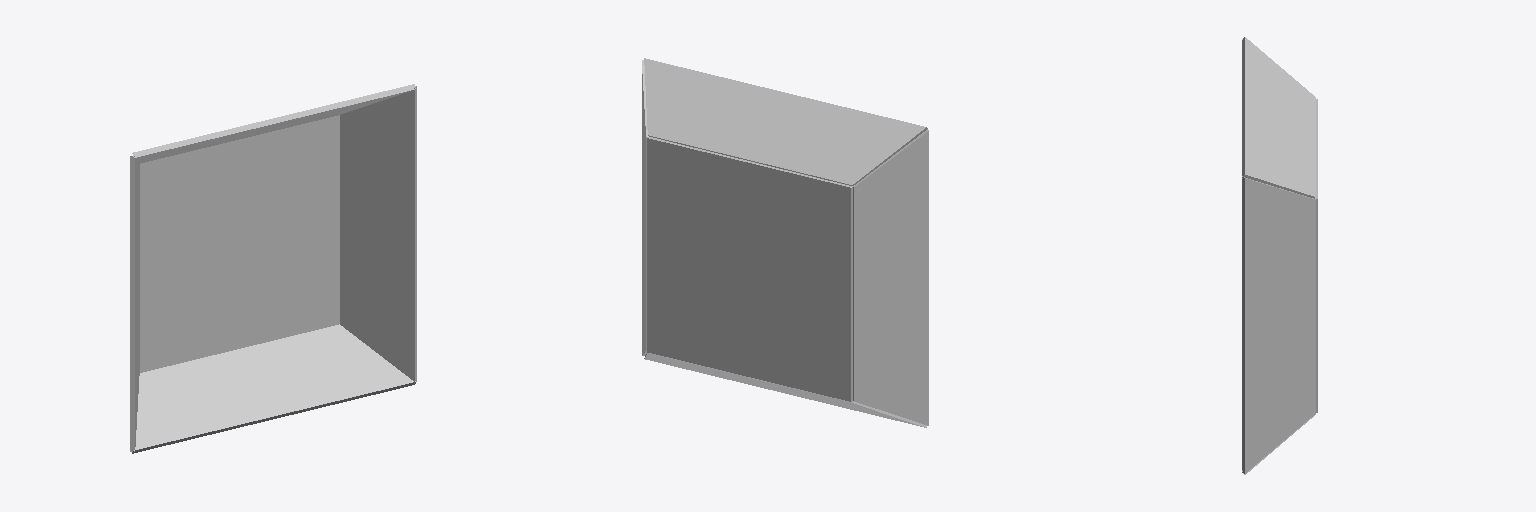
The model's file is tray_textured.obj.
The picture shows the model from 3 angles: view 1: azimuth 30°, elevation 25°; view 2: azimuth 150°, elevation 25°; view 3: azimuth 270°, elevation 25°; orthographic projection.
Visible parts, largest first — view 1: base_Cube.004, edge_2_Cube, edge_3_Cube.002, edge_1_Cube.003, edge_4_Cube.001; view 2: base_Cube.004, edge_4_Cube.001, edge_1_Cube.003, edge_3_Cube.002, edge_2_Cube; view 3: edge_2_Cube, edge_1_Cube.003, base_Cube.004.
Part boxes in pixels (left/top/right/bottom): base_Cube.004: left=140, top=115, right=339, bottom=372; edge_2_Cube: left=340, top=86, right=416, bottom=383; edge_3_Cube.002: left=132, top=324, right=415, bottom=453; edge_1_Cube.003: left=132, top=84, right=415, bottom=163; edge_4_Cube.001: left=130, top=156, right=139, bottom=451; base_Cube.004: left=647, top=137, right=852, bottom=401; edge_4_Cube.001: left=853, top=129, right=928, bottom=425; edge_1_Cube.003: left=644, top=58, right=927, bottom=185; edge_3_Cube.002: left=644, top=352, right=926, bottom=427; edge_2_Cube: left=642, top=60, right=648, bottom=355; edge_2_Cube: left=1242, top=176, right=1315, bottom=473; edge_1_Cube.003: left=1242, top=37, right=1315, bottom=198; base_Cube.004: left=1315, top=99, right=1317, bottom=412.
Bounding box in the file's own units: 1.18 × 1.18 × 0.2712.